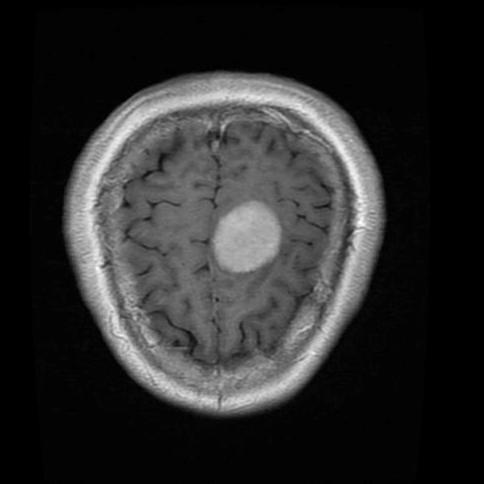Tumour-Meningioma: (203, 182, 287, 280)
